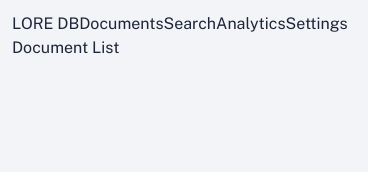
Scenario: Sidebar navigation › navigates to settings when clicking Settings link
The width and height of the screenshot is (368, 172).
Expected: the text "Document List" is shown, [12,38,120,57]
Step 1. Click the link "Settings" → (317,24), box [286,14,348,33]
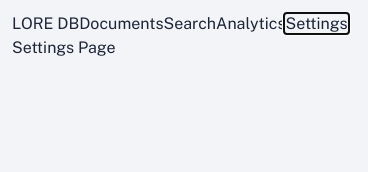
Expected: the text "Settings Page" is shown, [12,38,116,57]
